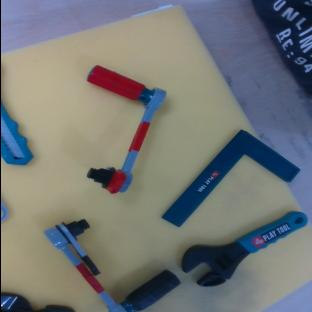non_pass: (25, 205, 182, 312)
pass: (50, 62, 167, 199)
